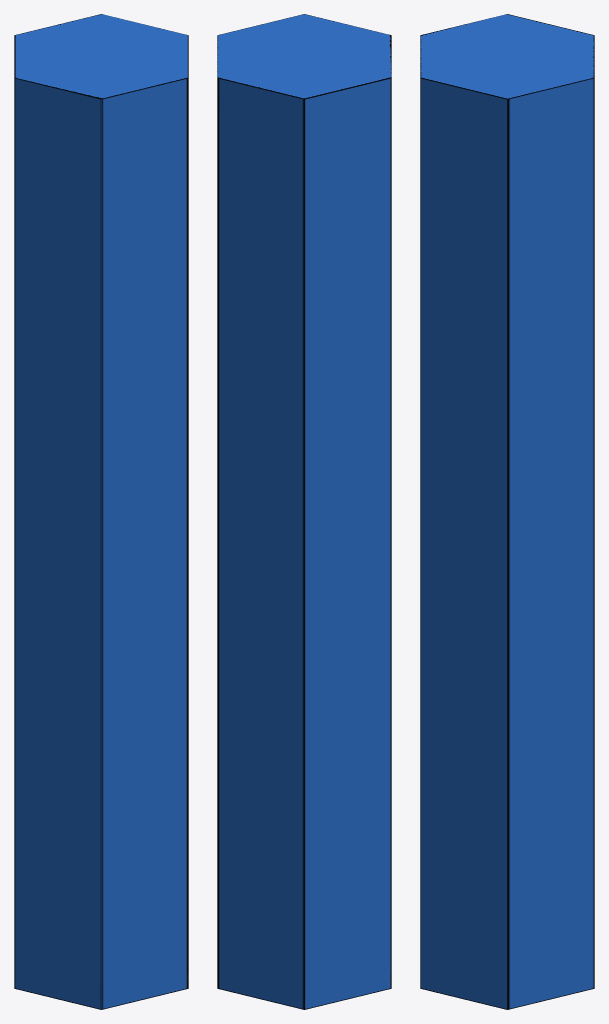
File: world6.obj
3 views of the same model, side by side, from view 1: azimuth 30°, elevation 25°; view 2: azimuth 150°, elevation 25°; view 3: azimuth 270°, elevation 25° (orthographic).
Parts seen in each view (by area): view 1: 円; view 2: 円; view 3: 円.
Part boxes in pixels (box(x1,y1,x2,y2)): 円: box(14, 14, 188, 1009); 円: box(217, 14, 391, 1009); 円: box(420, 14, 594, 1009).
Bounding box in the file's own units: 2 × 10 × 1.73.
Materials: 1 (1 with a texture image).
